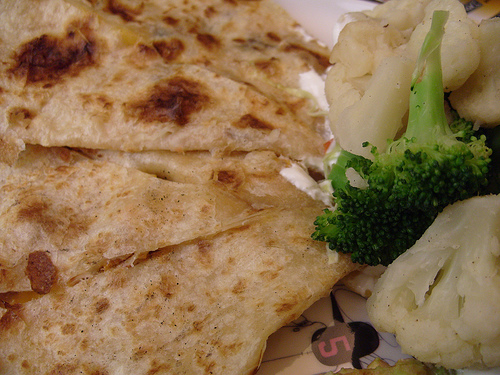cauliflower: (322, 0, 482, 159), (364, 190, 499, 370)
